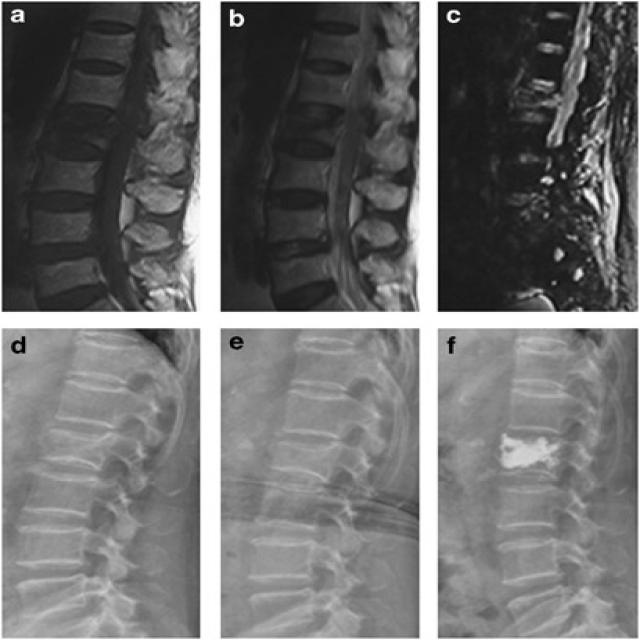fracture: (489, 402, 596, 497)
